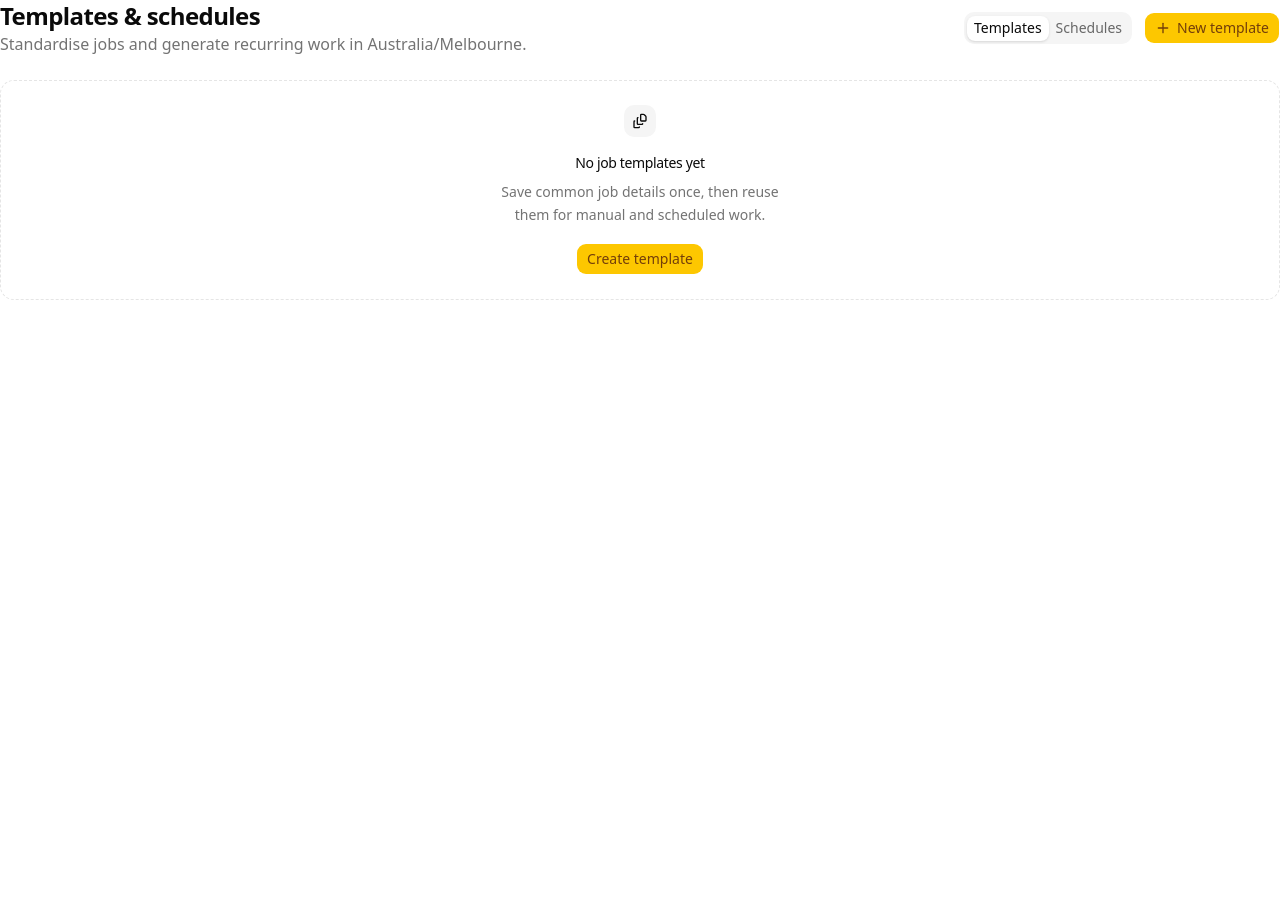
Test: TemplateScheduleWorkspace › opens template forms in a bottom drawer on mobile
This screenshot has width=1280, height=900.
Click the button "New template" at point(1212, 28), box [1144,12,1279,44]
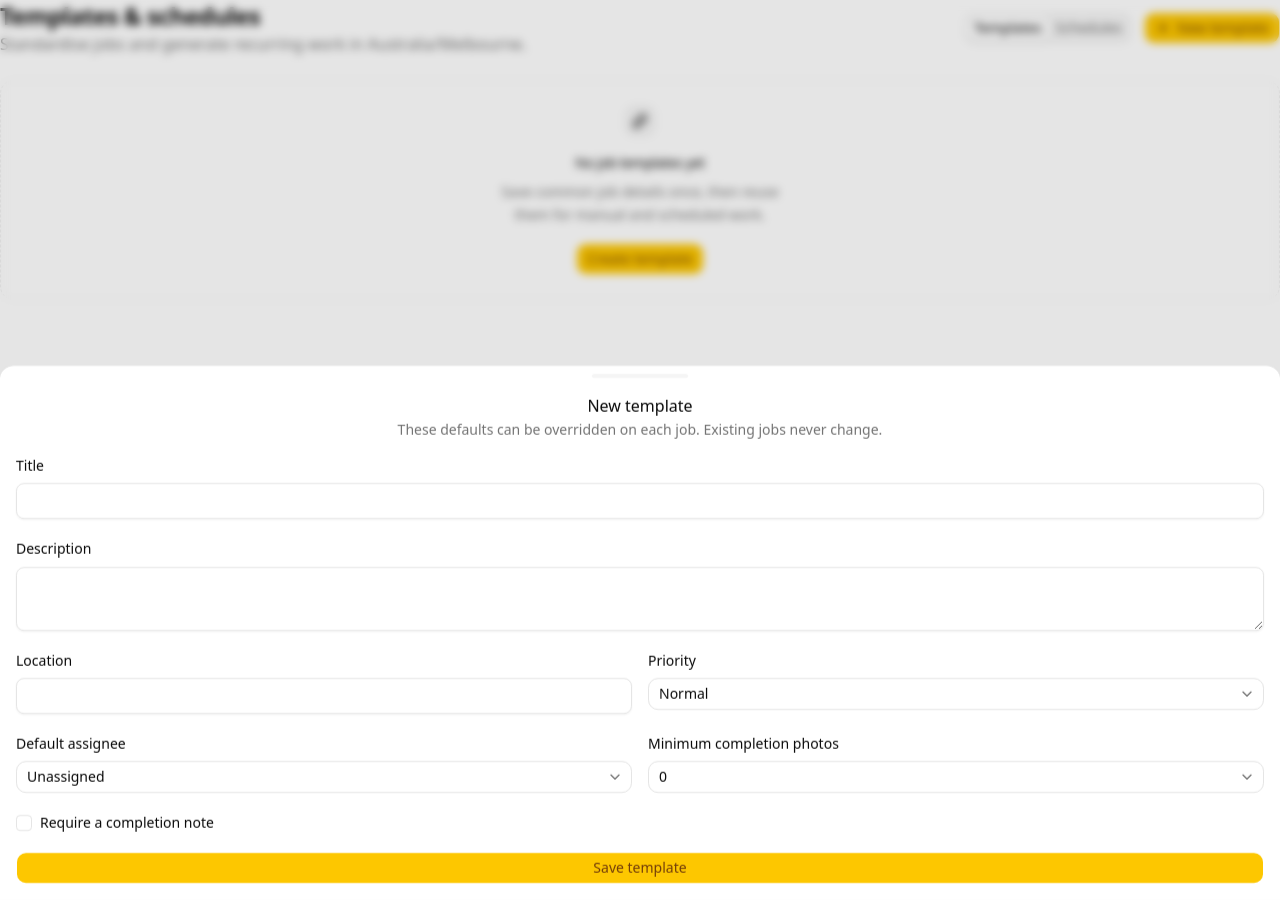
Expected: the dialog "New template" is shown, [0,365,1279,899]
